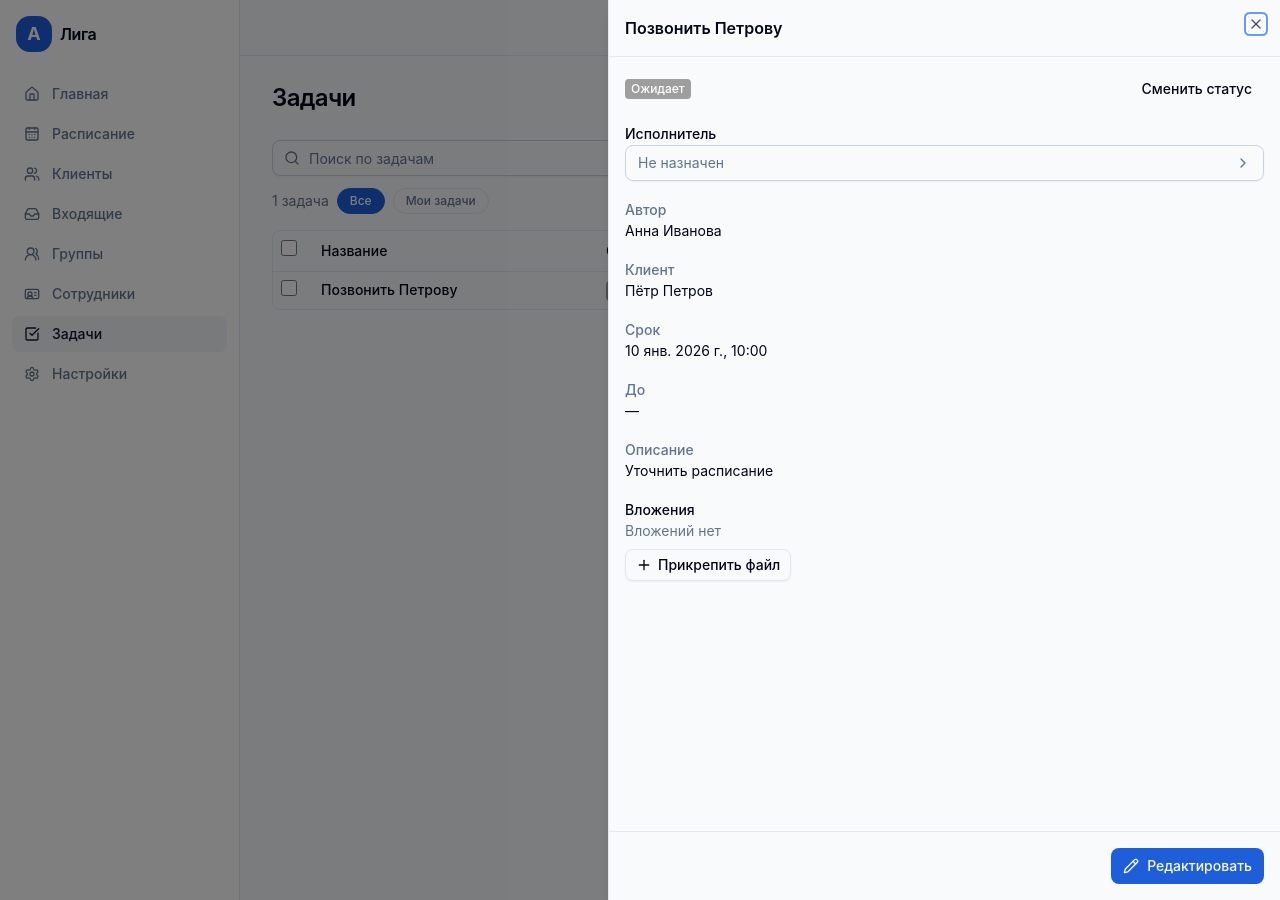
Test: карточка задачи › меняет статус через меню сразу
This screenshot has width=1280, height=900.
Click the button "Сменить статус".
click(1197, 89)  # box [1130,73,1264,105]
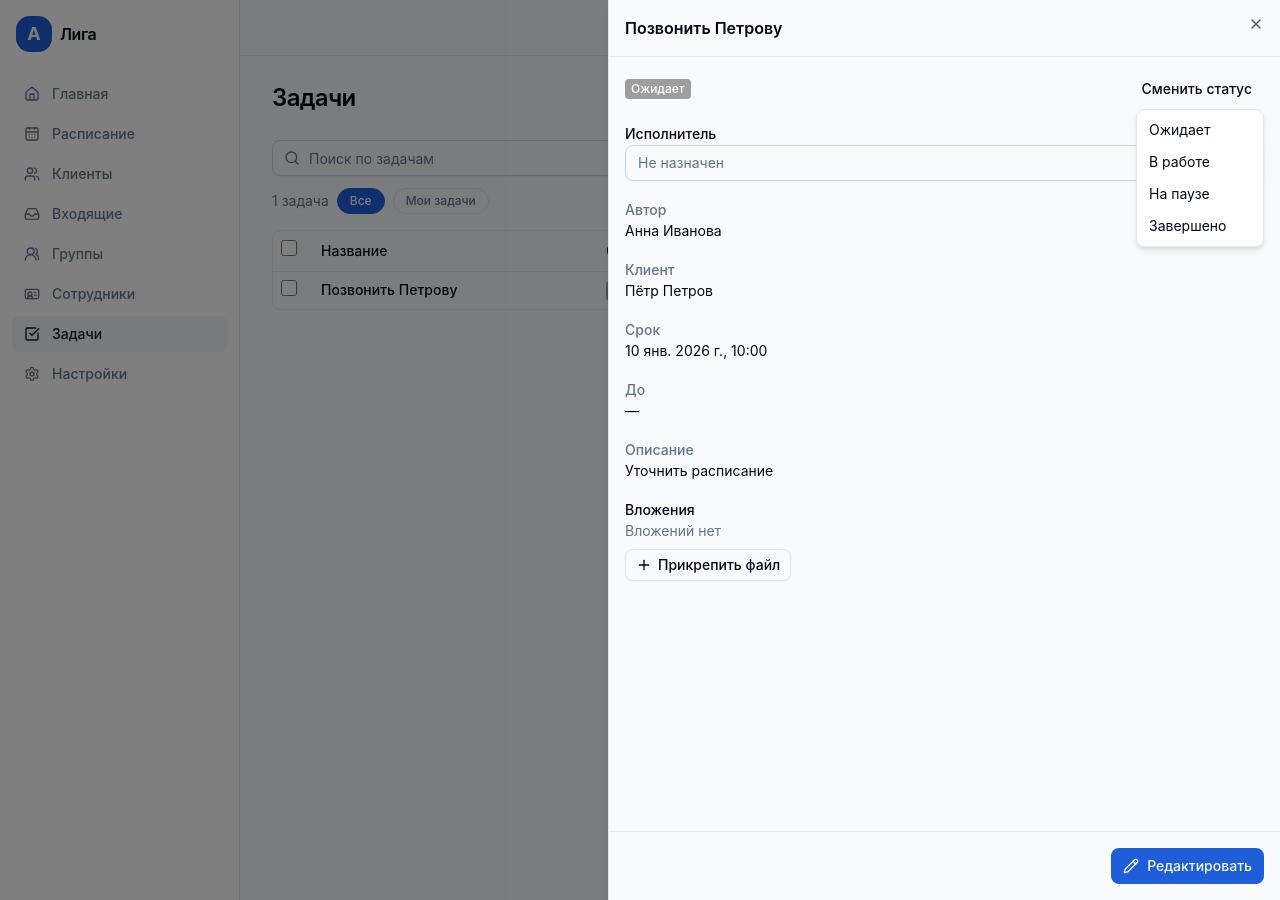
Click the menu item "Завершено".
click(1188, 226)  # box [1149,217,1226,234]
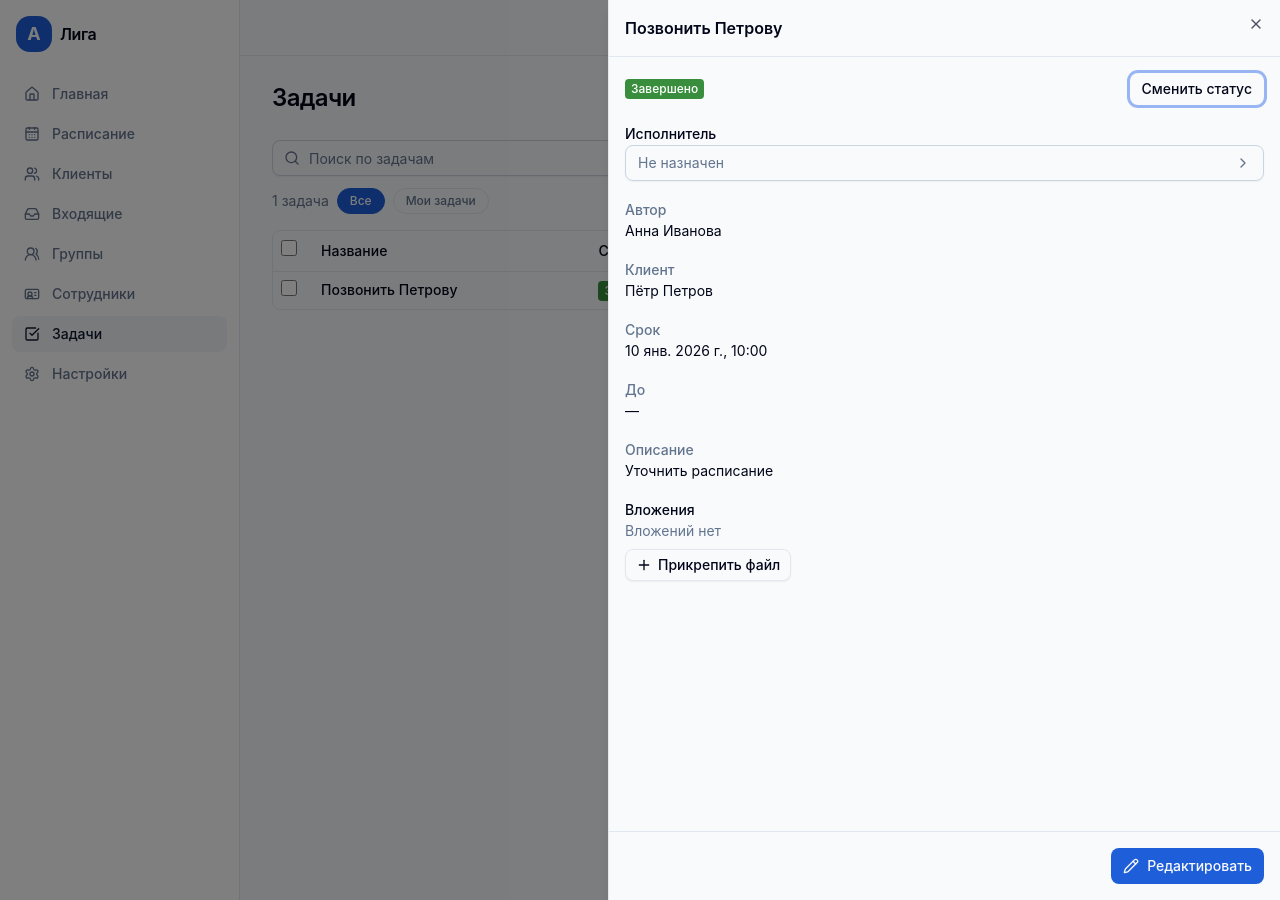
Check: the text "Завершено" is shown, box [625,79,704,99]
